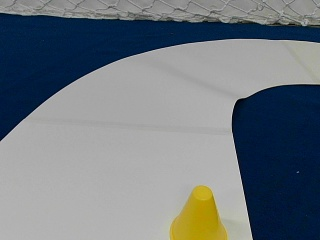cone: (169, 185, 227, 238)
